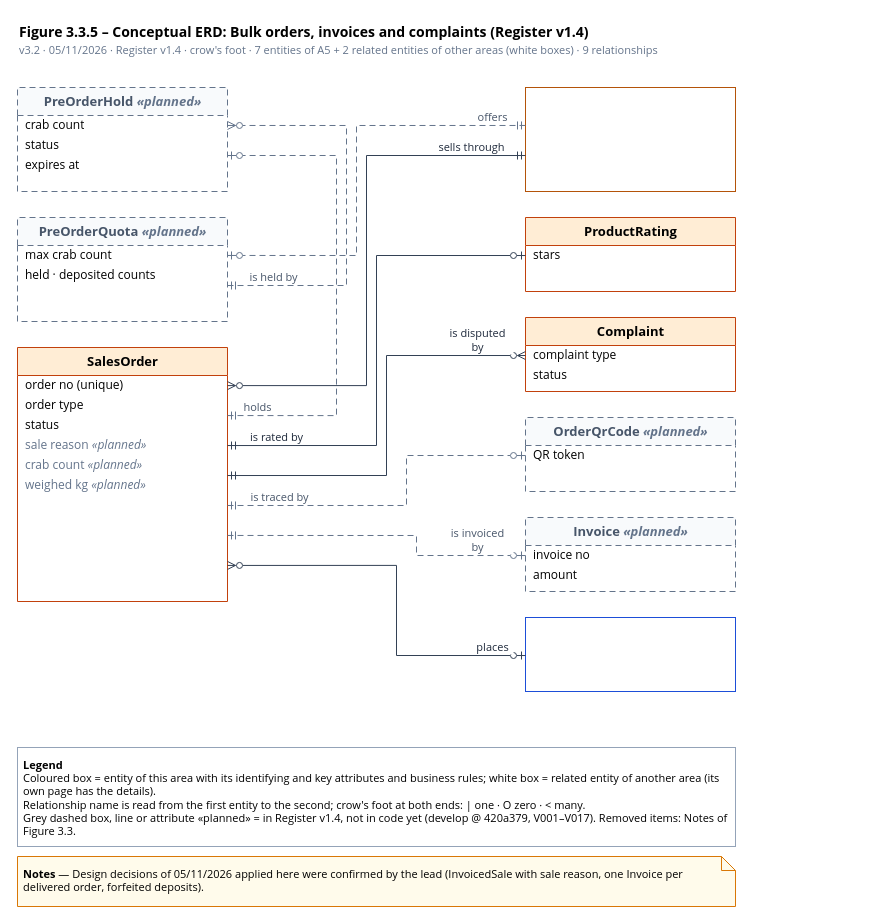
Some shapes in this 873 by 924 pixel diagram are drawn without their labels. Each missing label, with the centre of its shape:
"Batch (A2)" belongs at (630,139).
"Customer (A1)" belongs at (630,654).
